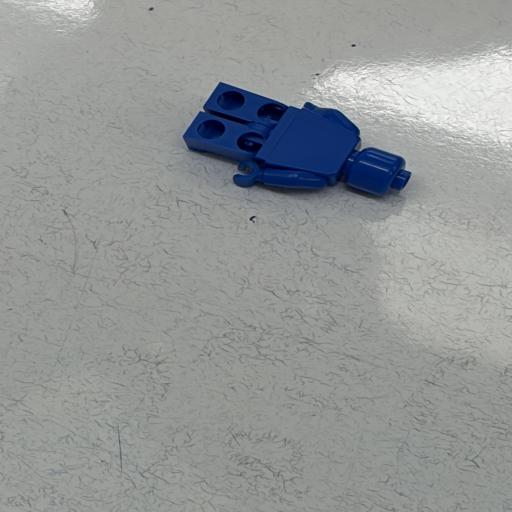Blue-Lego: (183, 83, 411, 196)
